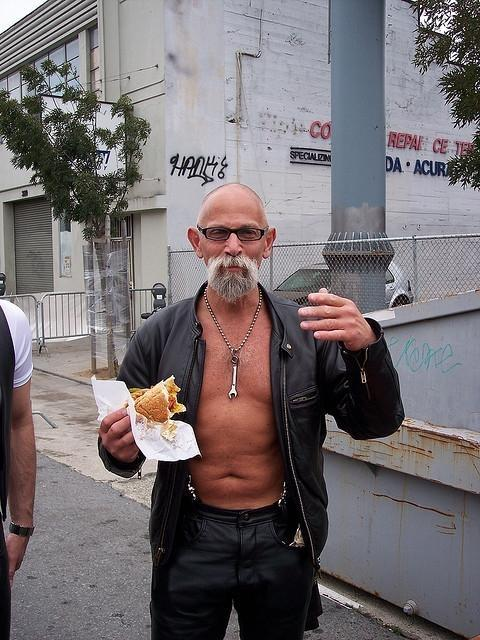car: (271, 260, 414, 308)
